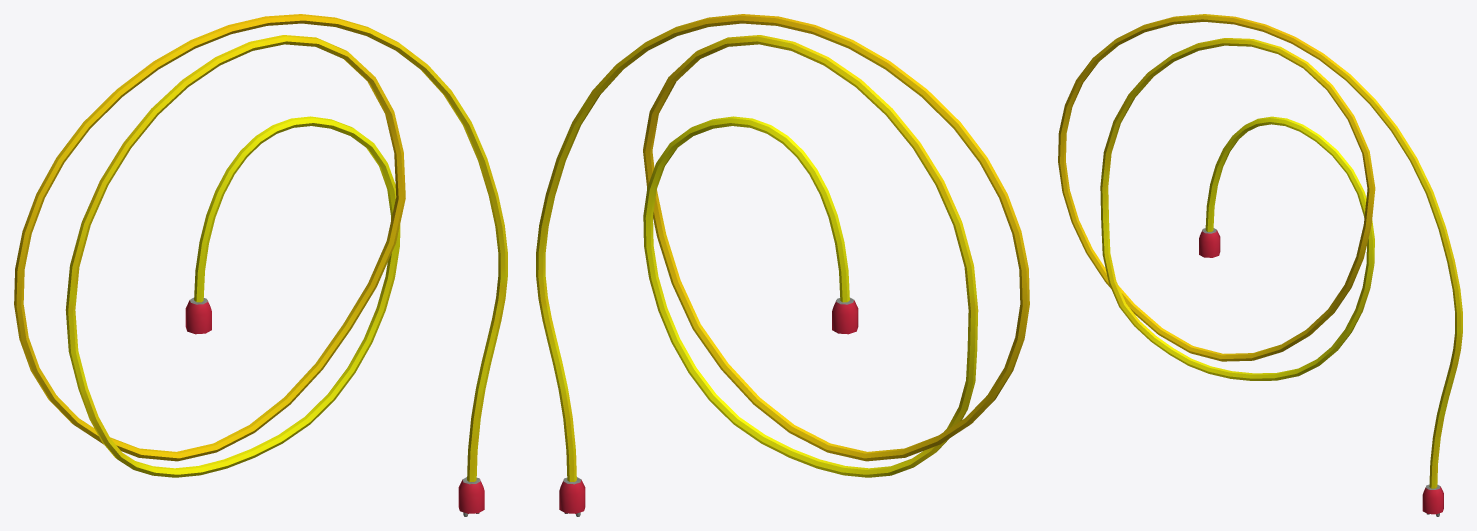
Rendered from electricity cable.fbx.
The picture shows the model from 3 angles, left to right: view 1: azimuth 30°, elevation 25°; view 2: azimuth 150°, elevation 25°; view 3: azimuth 330°, elevation 25°; orthographic projection. The views are drawn at different scales.
Parts seen in each view (by area): view 1: electricity_cable; view 2: electricity_cable; view 3: electricity_cable.
Boxes of the visible parts, x1=… form: electricity_cable: x1=14, y1=14, x2=507, y2=516; electricity_cable: x1=536, y1=14, x2=1029, y2=516; electricity_cable: x1=1058, y1=14, x2=1462, y2=516.
Bounding box in the file's own units: 1.28 × 1.37 × 0.0719.
